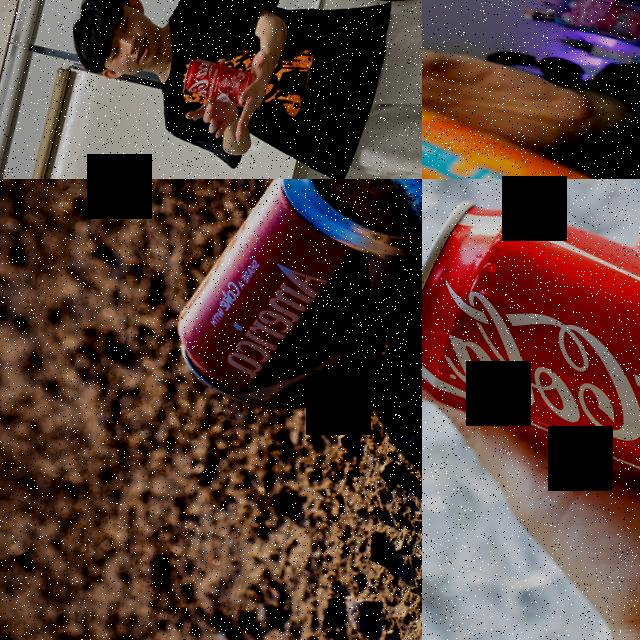can: (422, 183, 640, 562), (158, 179, 422, 444), (422, 68, 640, 179), (181, 53, 257, 107)
